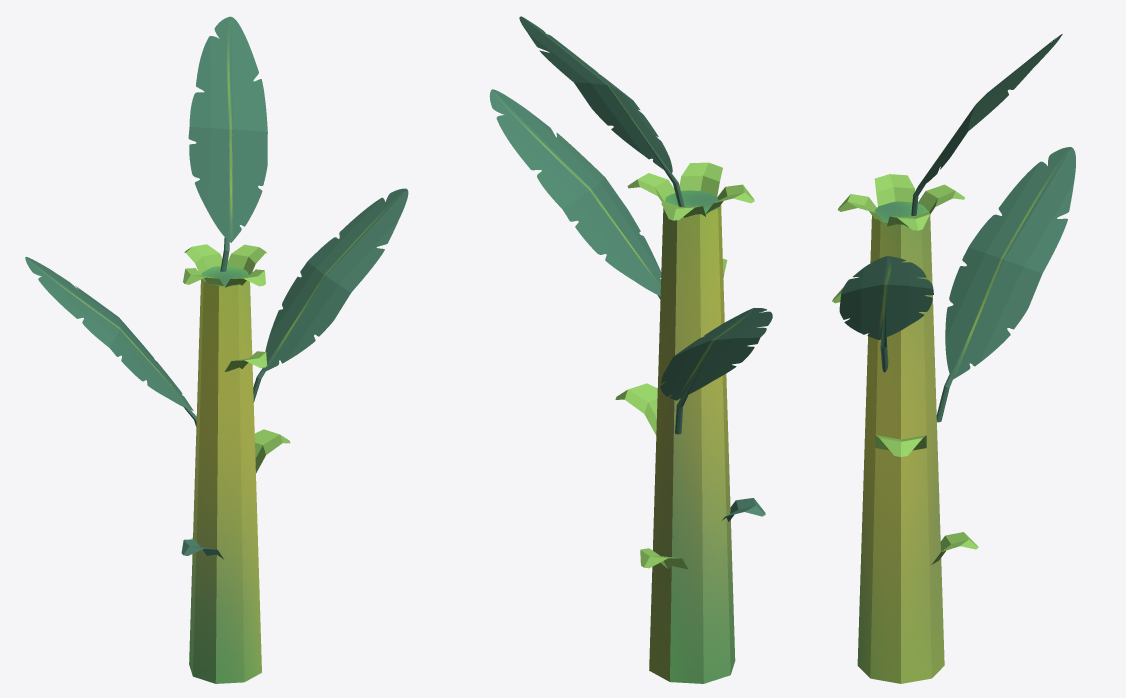
Rendered from banana_small.fbx.
3 views of the same model, side by side, from view 1: azimuth 30°, elevation 25°; view 2: azimuth 150°, elevation 25°; view 3: azimuth 270°, elevation 25° (orthographic). The views are drawn at different scales.
Visible parts, largest first — view 1: leaves.005; view 2: leaves.005; view 3: leaves.005.
Part boxes in pixels (x1=…): leaves.005: x1=25, y1=16, x2=408, y2=683; leaves.005: x1=489, y1=16, x2=772, y2=683; leaves.005: x1=832, y1=34, x2=1075, y2=683.
Bounding box in the file's own units: 106 × 177 × 66.59.
